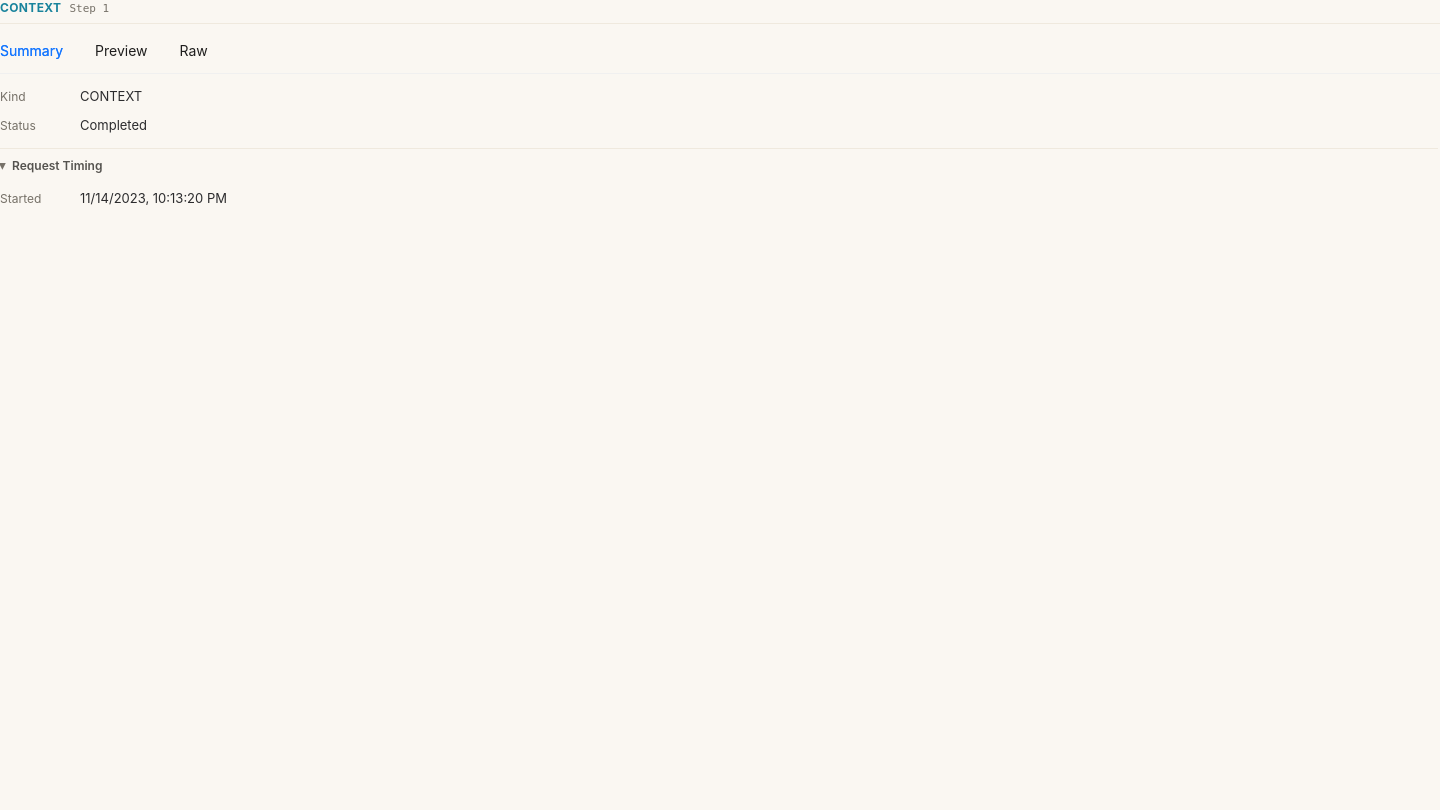
TrajectoryInspector › loads full content on the Preview tab
This screenshot has width=1440, height=810.
Click the tab "Preview" at (121, 51), box [95,40,148,62]
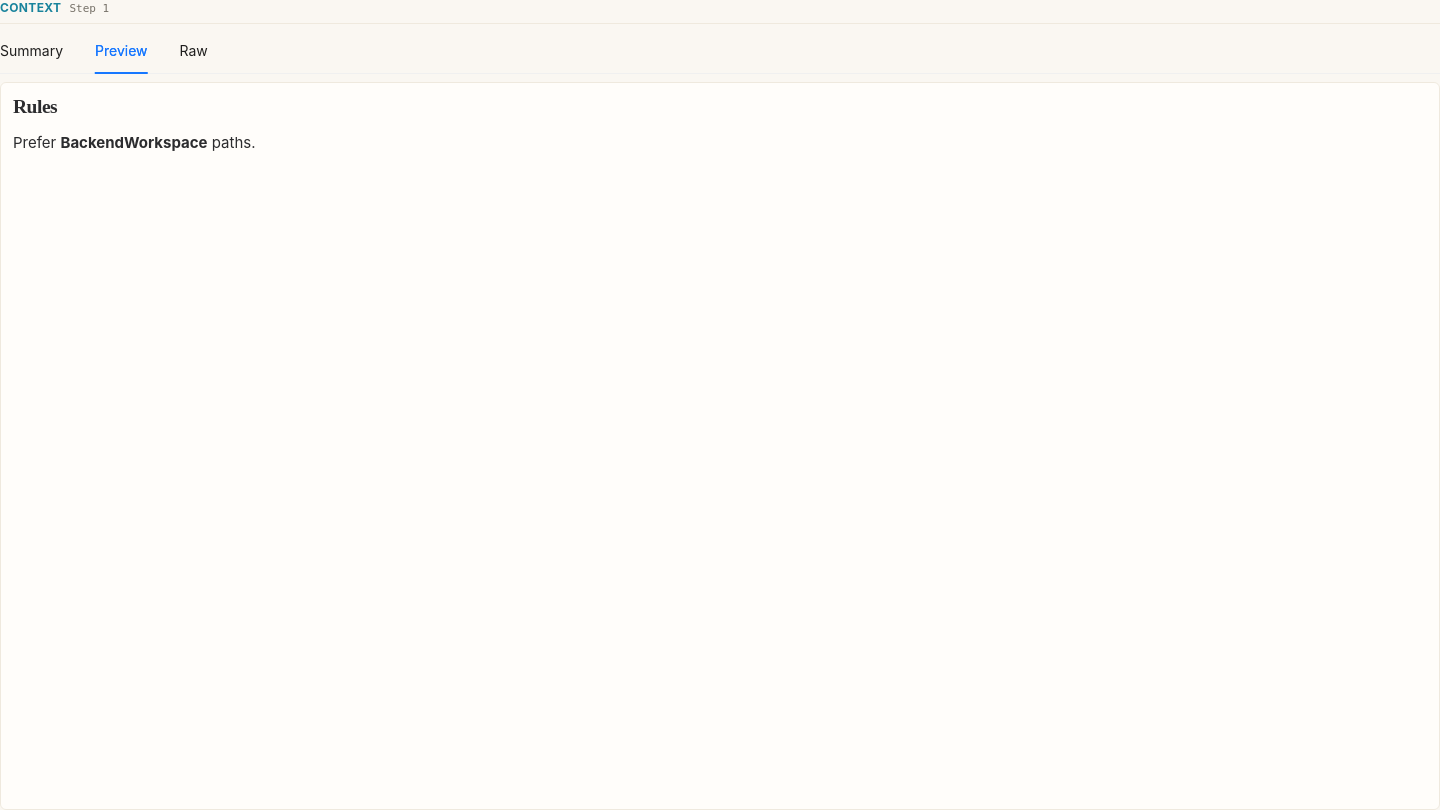
expect the element with test id "trajectory-preview" shows "Prefer BackendWorkspace paths": met
expect the heading "Rules" is shown: met, box [13,96,57,117]
expect the text "BackendWorkspace" is shown: met, box [60,133,208,152]
